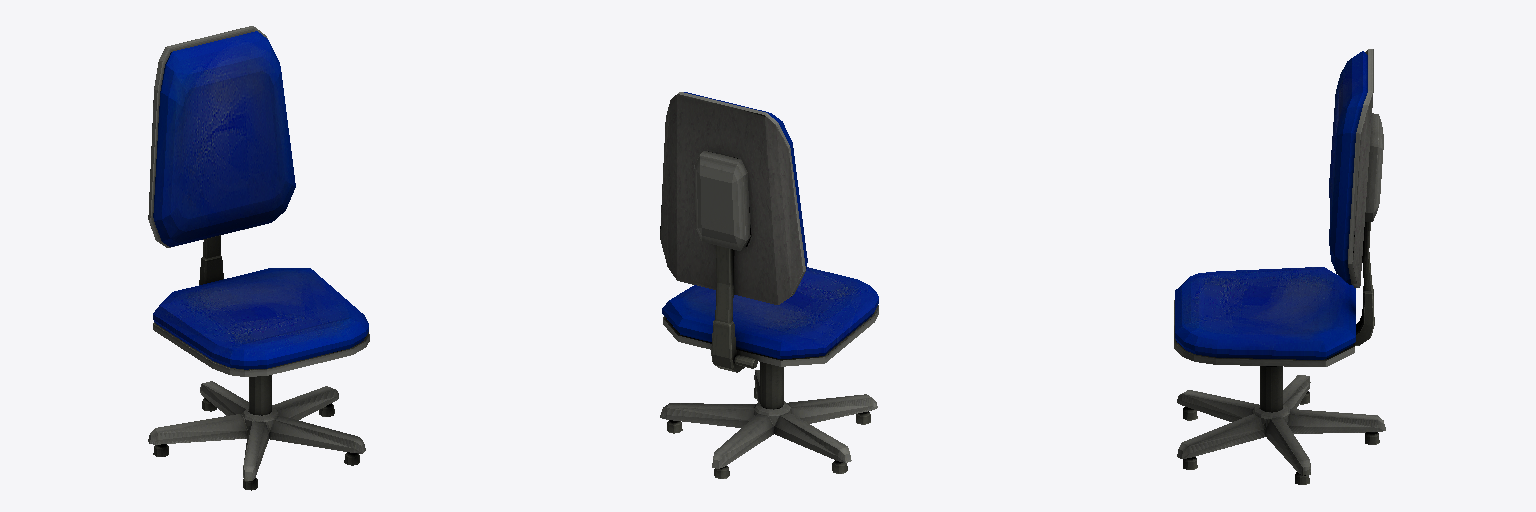
3 renders of one model, left to right at view 1: azimuth 30°, elevation 25°; view 2: azimuth 150°, elevation 25°; view 3: azimuth 270°, elevation 25°, orthographic.
Parts seen in each view (by area): view 1: Mesh_buerostuhl; view 2: Mesh_buerostuhl; view 3: Mesh_buerostuhl.
Part boxes in pixels (x1,y1,x2,y2): Mesh_buerostuhl: (148,26,369,490); Mesh_buerostuhl: (660,92,878,478); Mesh_buerostuhl: (1174,49,1385,484).
Bounding box in the file's own units: 0.5615 × 1.05 × 0.5403.
Materials: 1 (1 with a texture image).